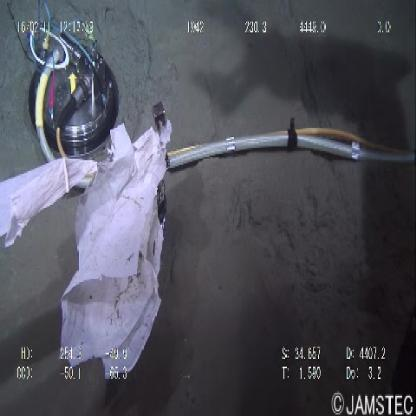Rov: (19, 17, 120, 157)
Rác: (1, 125, 171, 384)
